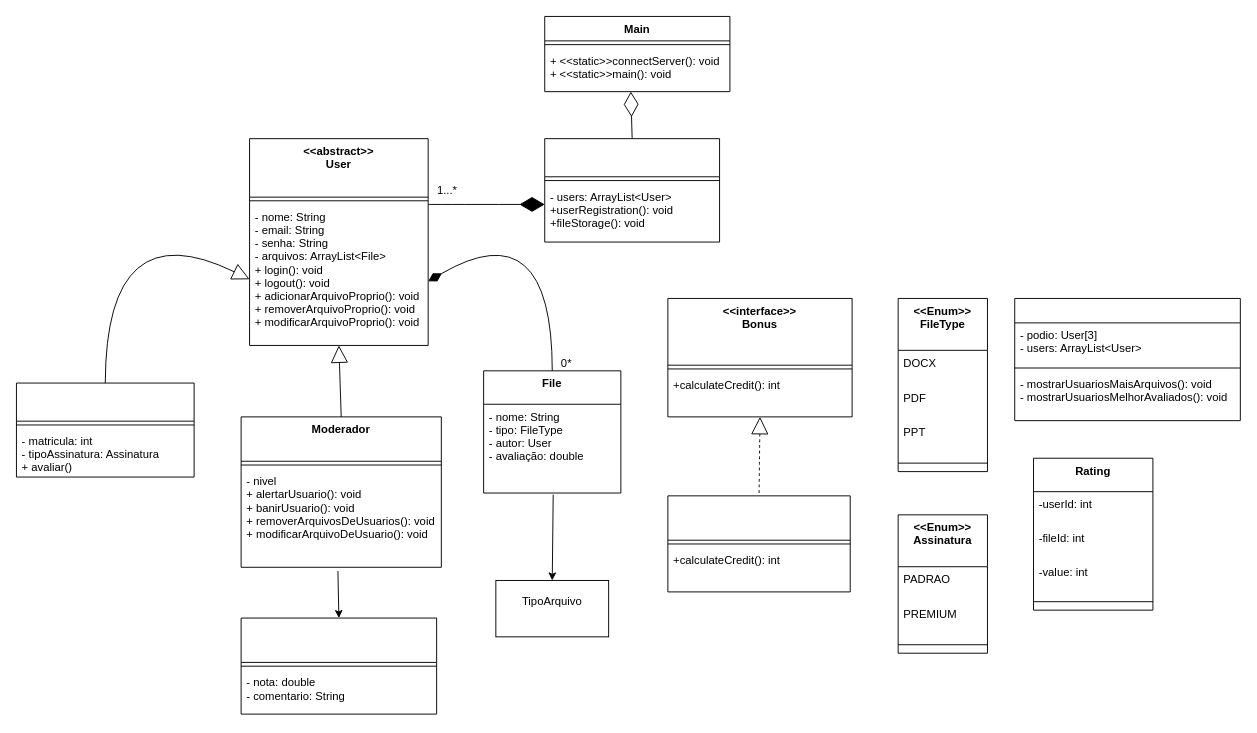
The diagram is 1257 pixels wide and 733 high, and some of its shapes have lost their labels. Here are the shapes that lost their labels. From the top down, the box of each, then its label:
(544, 138, 720, 242): System
(1014, 298, 1240, 421): Ranking
(16, 382, 194, 477): Aluno
(667, 495, 850, 592): UserCredit
(240, 617, 437, 714): Avaliação
